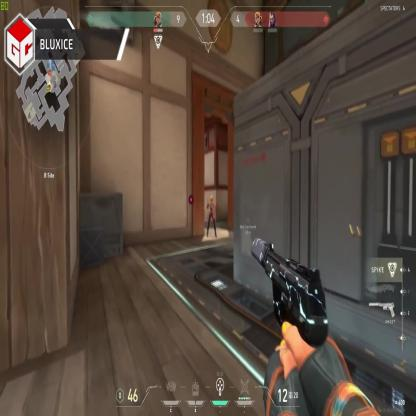enemy: (208, 195, 216, 239)
enemy_head: (209, 194, 214, 204)
